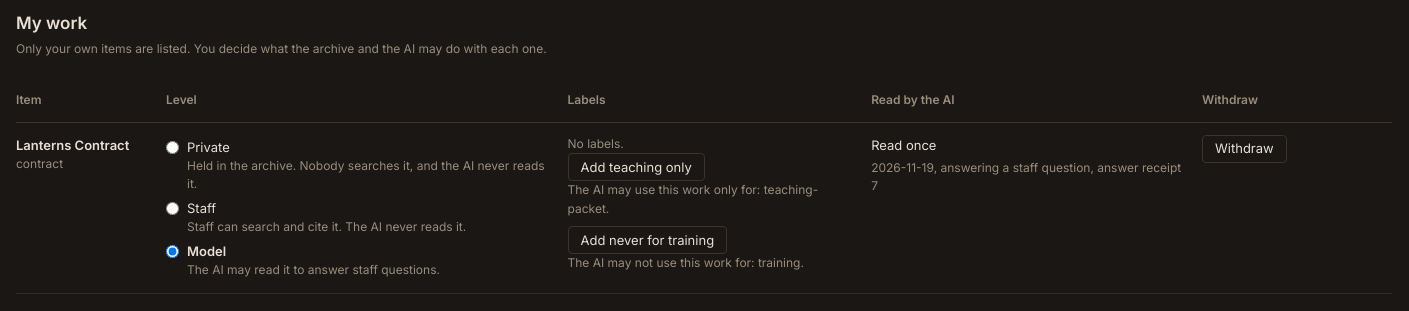
TermsView › withdraw asks in place first; nothing is posted until the second click
Later steps or results of the test are not shown.
Click the button with aria-label "Withdraw Lanterns Contract".
click(1244, 148)  # box [1202, 134, 1287, 162]
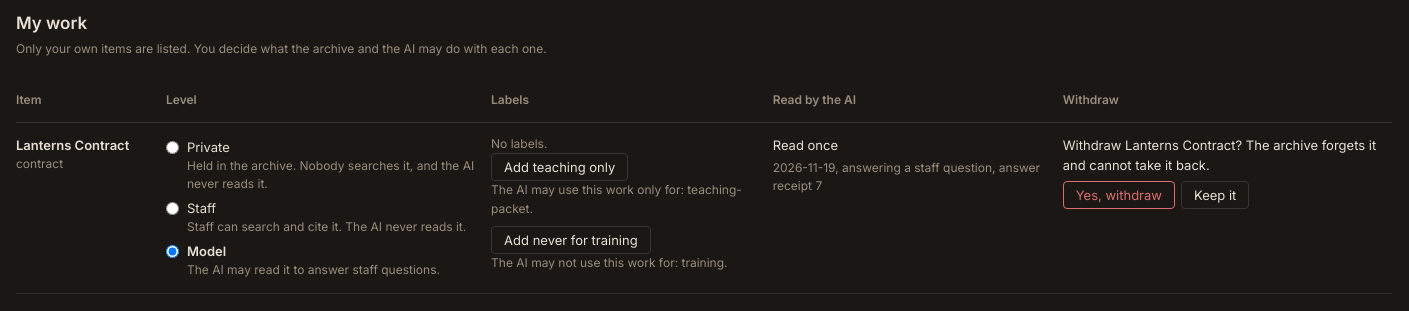
Expected: the text "The archive forgets it and cannot take it back" is shown, [1063, 136, 1376, 173]
